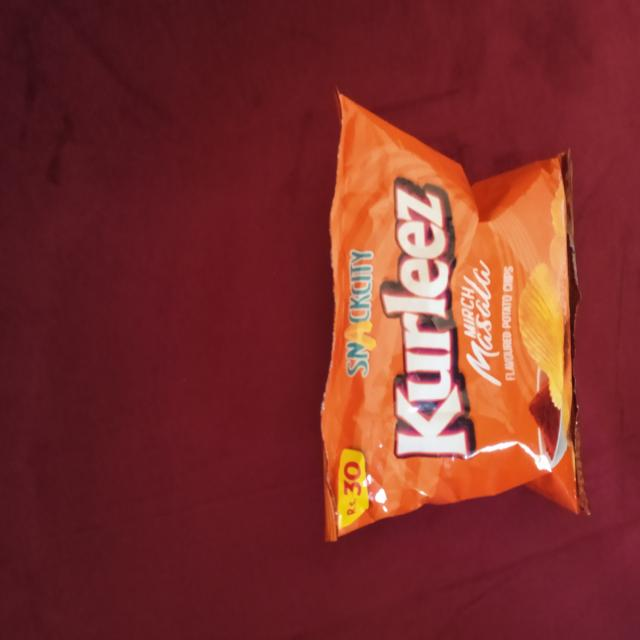Plastic: (314, 80, 595, 544)
